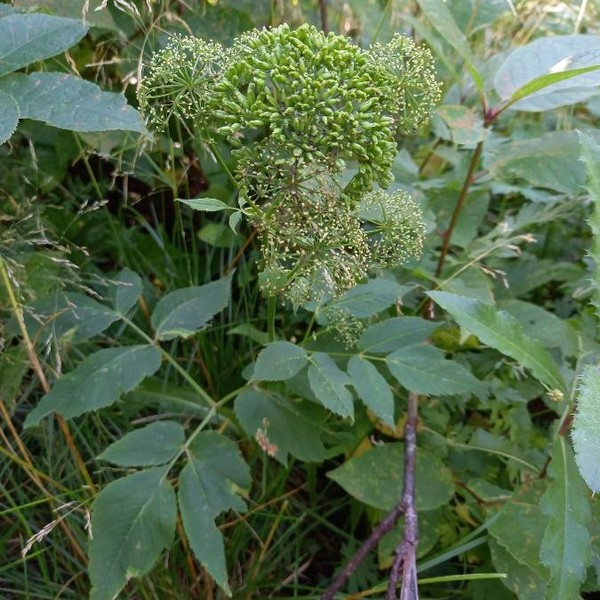obstacle: (33, 262, 397, 571), (132, 3, 445, 292)
